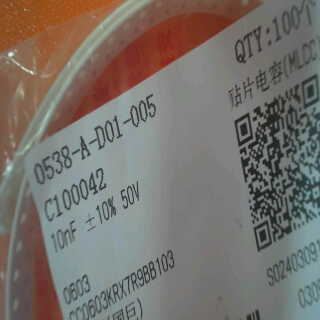10nF: (48, 217, 79, 255)
